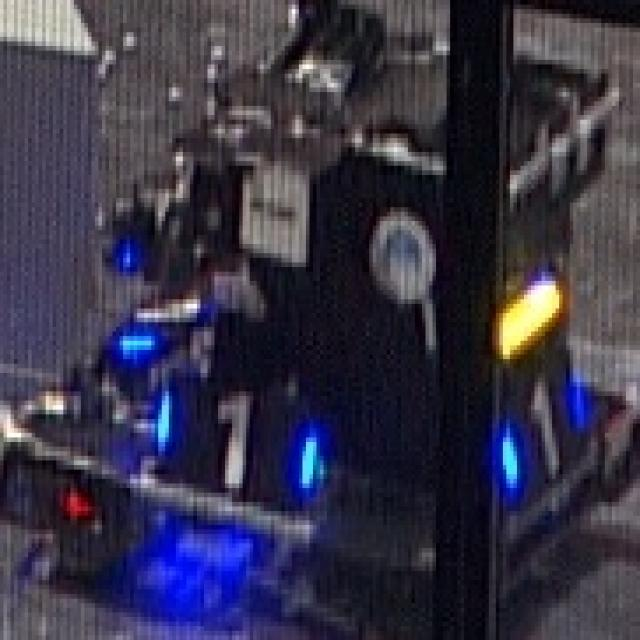B1: (146, 371, 325, 504), (498, 352, 592, 500)
